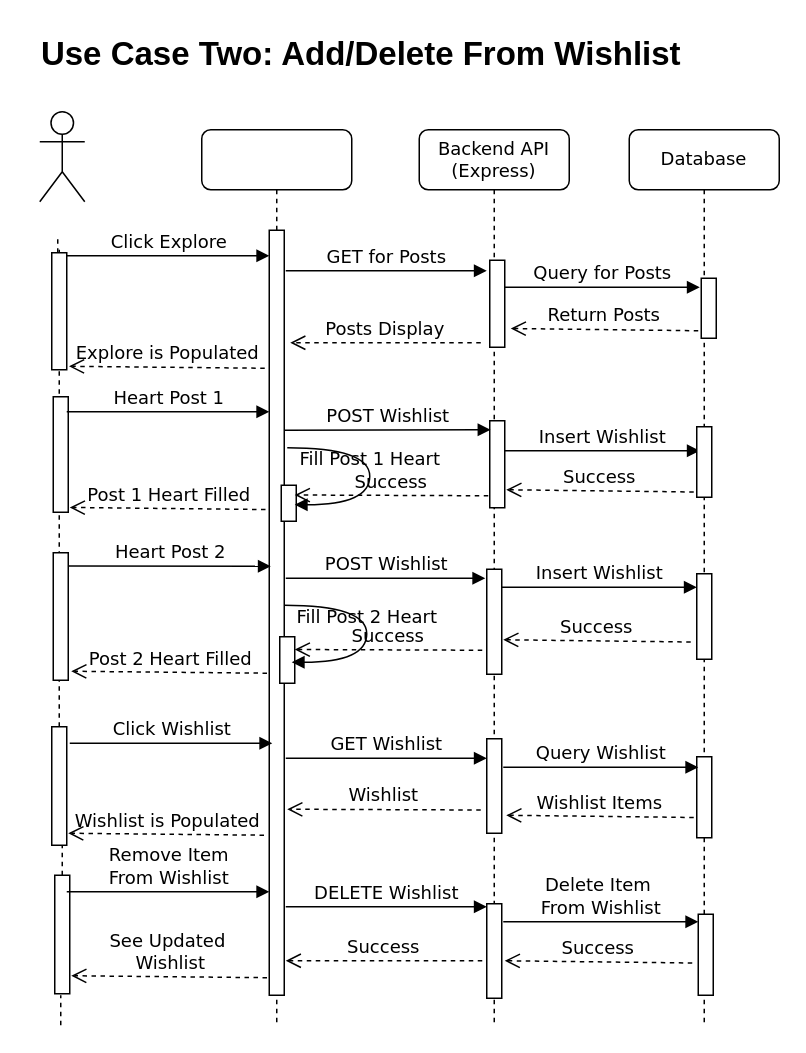
This 806x1053 diagram has some shape labels left out. The shapes that lost their labels are listed below. From the top down, each one's box as (x1, y1, x2, y2) in pixels, then its label:
(38, 110, 85, 202): Actor
(200, 128, 352, 1027): Frontend/UI (React, Next.js)
